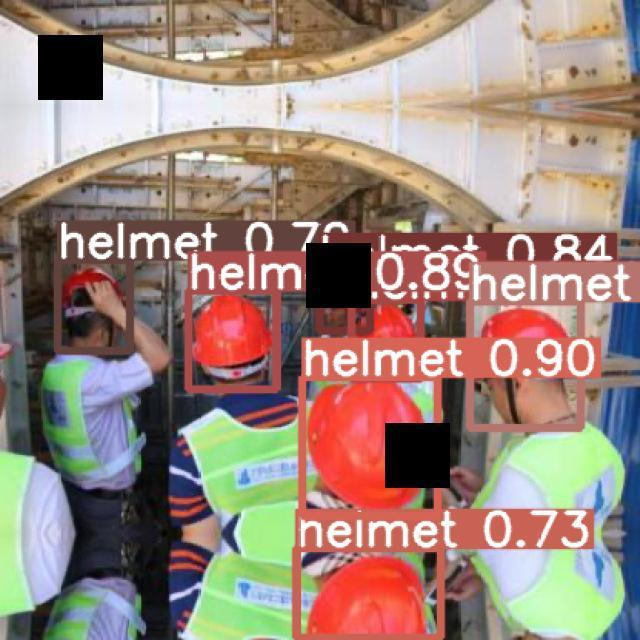red helmet: (309, 371, 449, 521), (293, 538, 448, 640), (179, 274, 284, 389), (479, 306, 589, 381), (56, 259, 134, 334), (351, 296, 436, 346)
